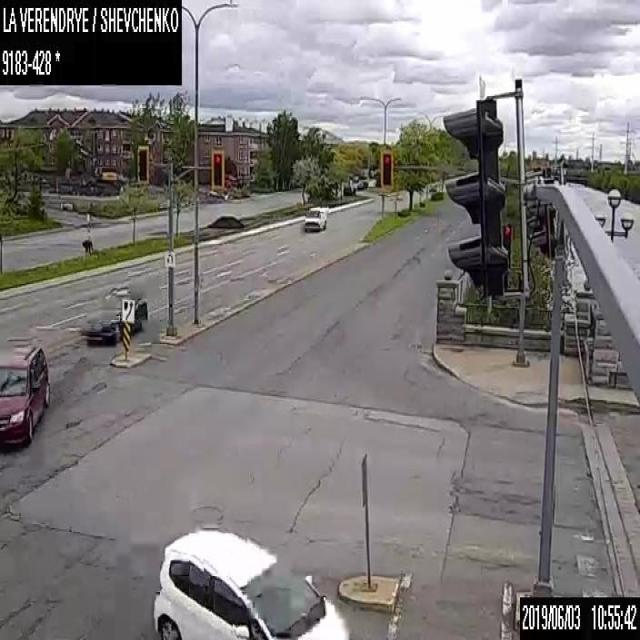vehicle: (150, 524, 348, 639), (0, 341, 50, 444), (80, 282, 148, 342), (303, 204, 327, 231)
